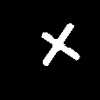single_crochet: (42, 24, 79, 65)
